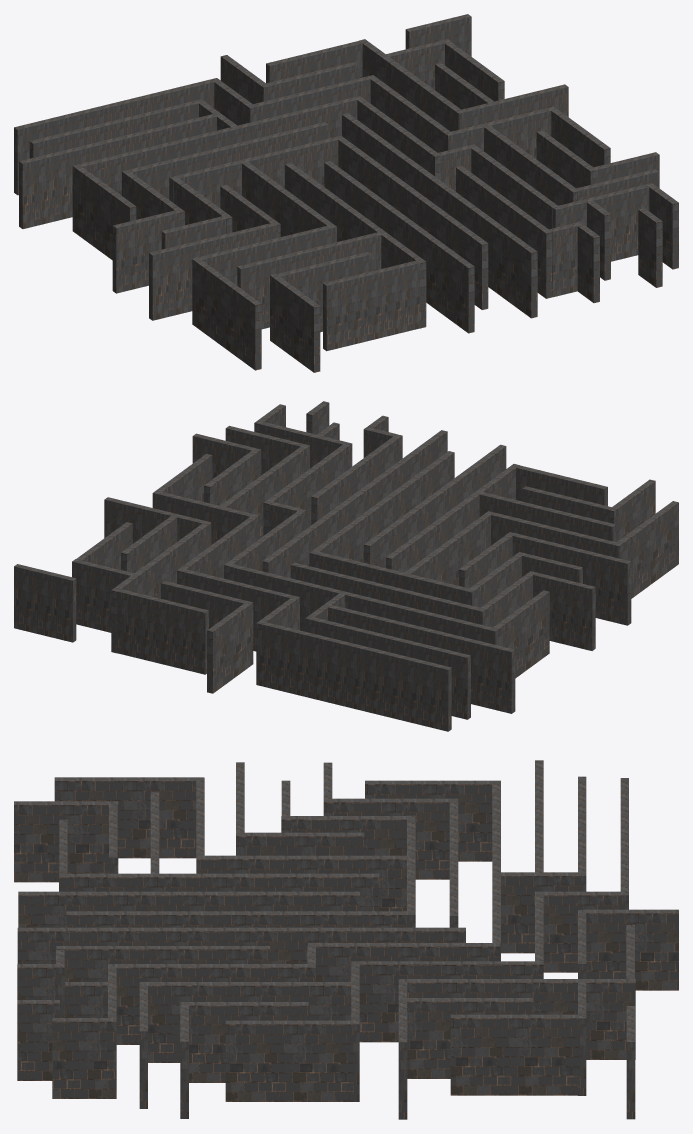
File: Phase1new.fbx
The picture shows the model from 3 angles, top to bottom: view 1: azimuth 30°, elevation 25°; view 2: azimuth 150°, elevation 25°; view 3: azimuth 270°, elevation 25°; orthographic projection. The views are drawn at different scales.
Parts seen in each view (by area): view 1: wall__29_, wall__42_, wall__36_, ChangedWall_1, wall__30_, wall__39_, wall__46_, wall__49_, wall__7_, wall__40_, wall__41_, wall__37_ (+40 smaller); view 2: wall__7_, wall__6_, ChangedWall_1, wall__29_, wall__30_, wall__39_, wall__36_, wall__49_, wall, wall__32_, wall__46_, wall__38_ (+37 smaller); view 3: wall__10_, wall__2_, wall__29_, wall__36_, wall__3_, wall__46_, wall__45_, wall__8_, wall__22_, wall__41_, wall__14_, wall__39_ (+35 smaller).
Boxes of the visible parts, x1,y1,x2,y2 form: wall__29_: (342,113,537,318); wall__42_: (323,260,419,351); wall__36_: (324,161,474,333); ChangedWall_1: (19,113,218,228); wall__30_: (72,97,357,233); wall__39_: (338,138,488,309); wall__46_: (192,257,261,370); wall__49_: (149,223,277,320); wall__7_: (14,78,220,195); wall__40_: (169,135,343,207); wall__41_: (285,163,426,328); wall__37_: (122,122,328,199); wall__7_: (256,621,451,731); wall__6_: (117,589,208,674); ChangedWall_1: (326,604,515,713); wall__29_: (262,430,447,577); wall__30_: (229,564,498,645); wall__39_: (312,451,454,562); wall__36_: (364,444,506,567); wall__49_: (512,533,631,625); wall: (14,564,76,642); wall__32_: (305,616,470,719); wall__46_: (616,501,678,598); wall__38_: (528,571,595,650); wall__10_: (225,1020,353,1101); wall__2_: (450,1014,578,1095); wall__29_: (17,927,465,963); wall__36_: (18,891,359,927); wall__3_: (400,979,635,1059); wall__46_: (54,777,203,858); wall__45_: (14,801,118,882); wall__8_: (139,982,351,1062); wall__22_: (583,909,678,990); wall__41_: (59,873,379,911); wall__14_: (351,961,543,1042); wall__39_: (66,911,408,927).
Bounding box in the file's own units: 31260 × 4000 × 31135.
Materials: 1 (1 with a texture image).
